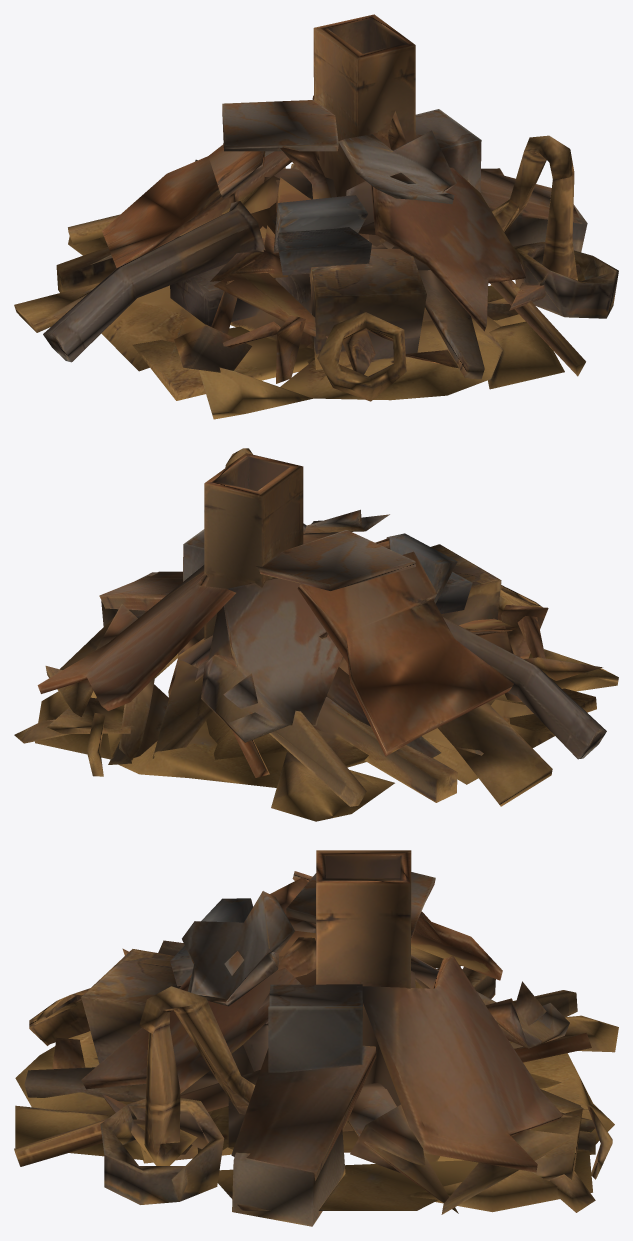
File: Meshy_AI_Desert_Wreckage_0831075026_texture.fbx
The picture shows the model from 3 angles, top to bottom: view 1: azimuth 30°, elevation 25°; view 2: azimuth 150°, elevation 25°; view 3: azimuth 270°, elevation 25°; orthographic projection. The views are drawn at different scales.
Visible parts, largest first — view 1: mesh_node; view 2: mesh_node; view 3: mesh_node.
Part boxes in pixels (x1,y1,x2,y2): mesh_node: (14, 14, 618, 419); mesh_node: (14, 448, 618, 821); mesh_node: (14, 850, 618, 1226).
Bounding box in the file's own units: 100 × 46.68 × 91.6.
1 material, 1 textured.
